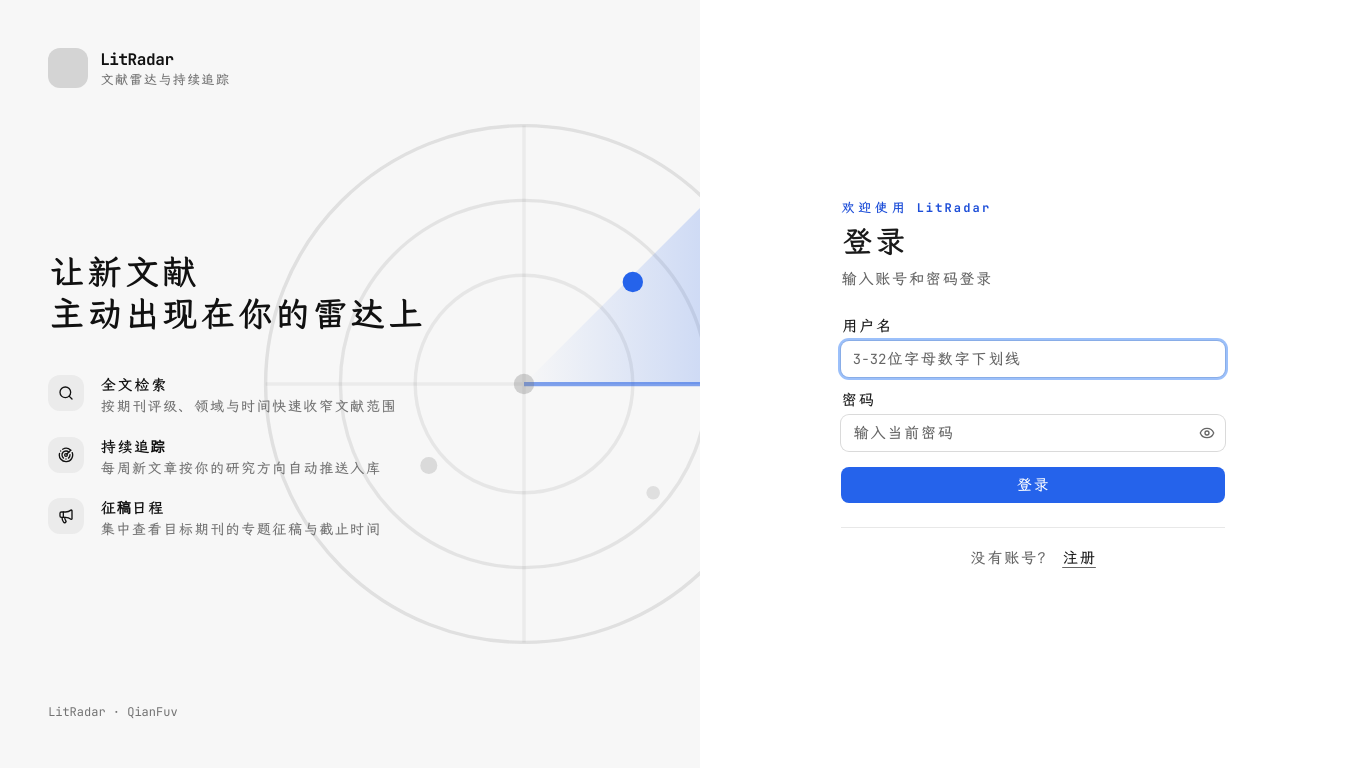
Test: login page › announces mapped login failures
Type "reader" into the field labelled "用户名" at (1033, 359), box [841,341,1225,377]
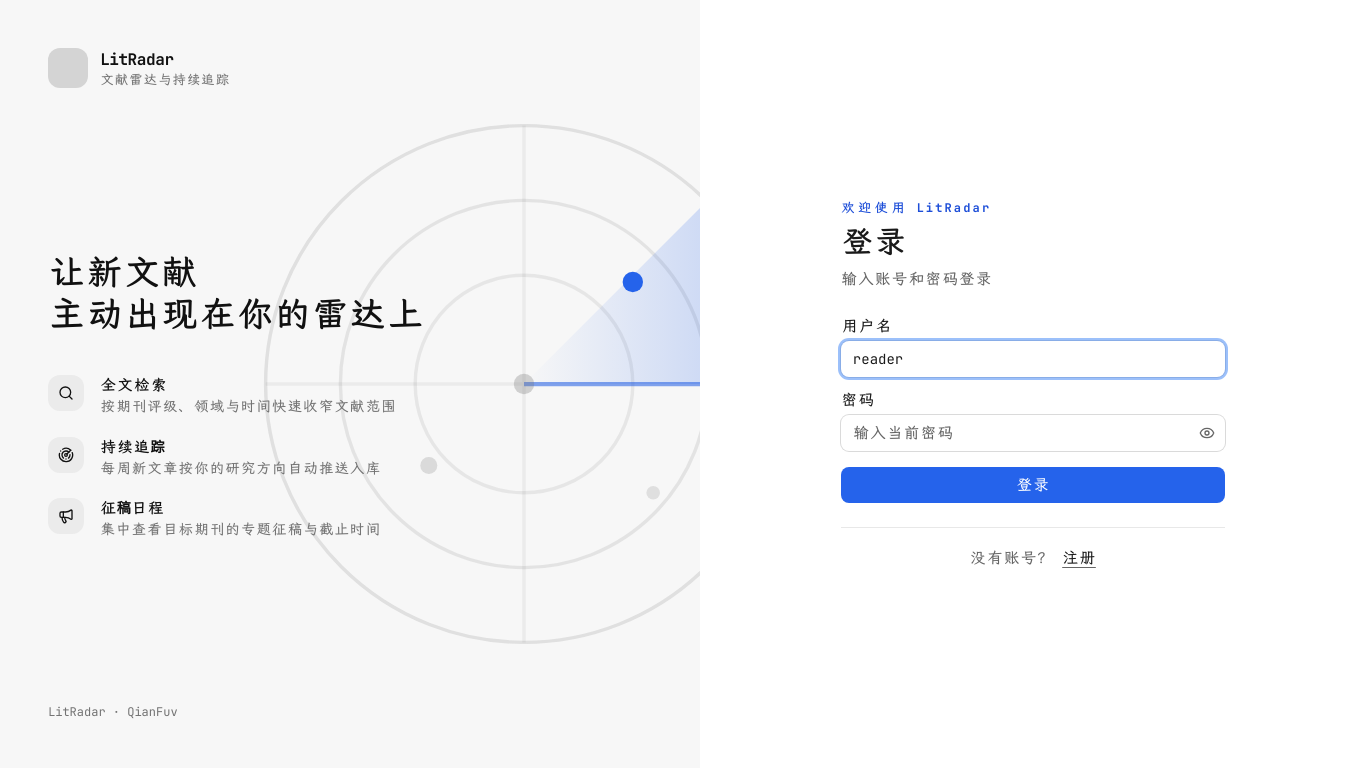
Type "wrong-password" into the password field labelled "密码" at (1033, 433), box [841,415,1225,451]
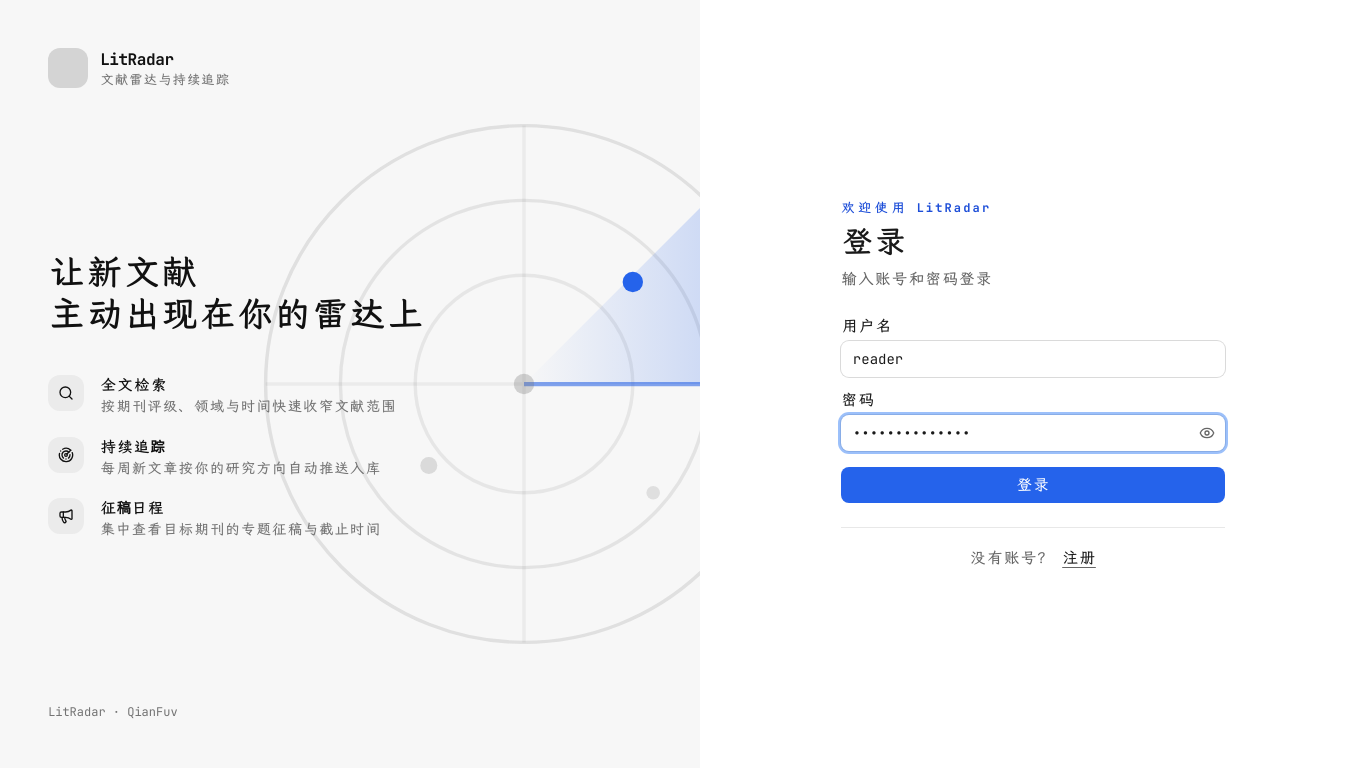
Click the button "登录" at (1033, 485), box [841,467,1225,503]
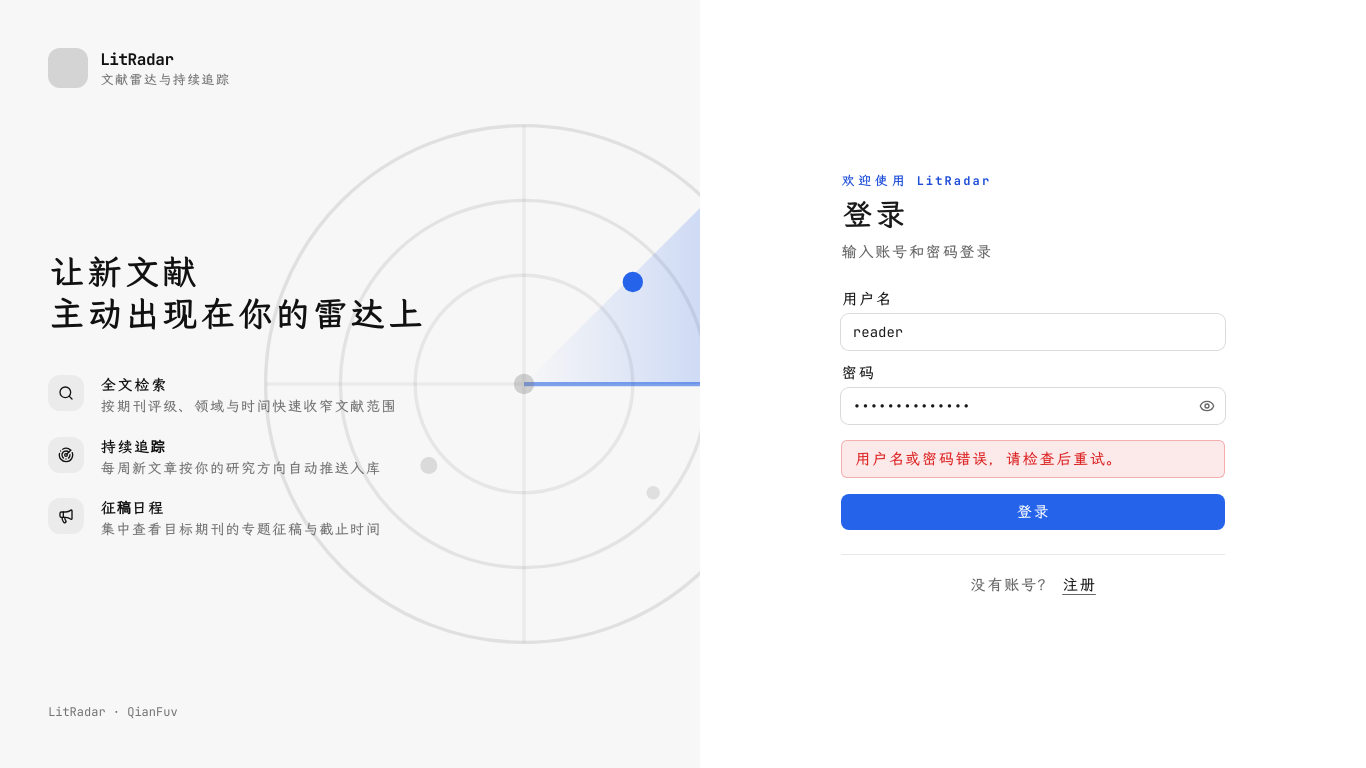
Check: the message reads "用户名或密码错误，请检查后重试。", box [854,450,1123,468]
Click the button "登录" at (1033, 512), box [841,494,1225,530]
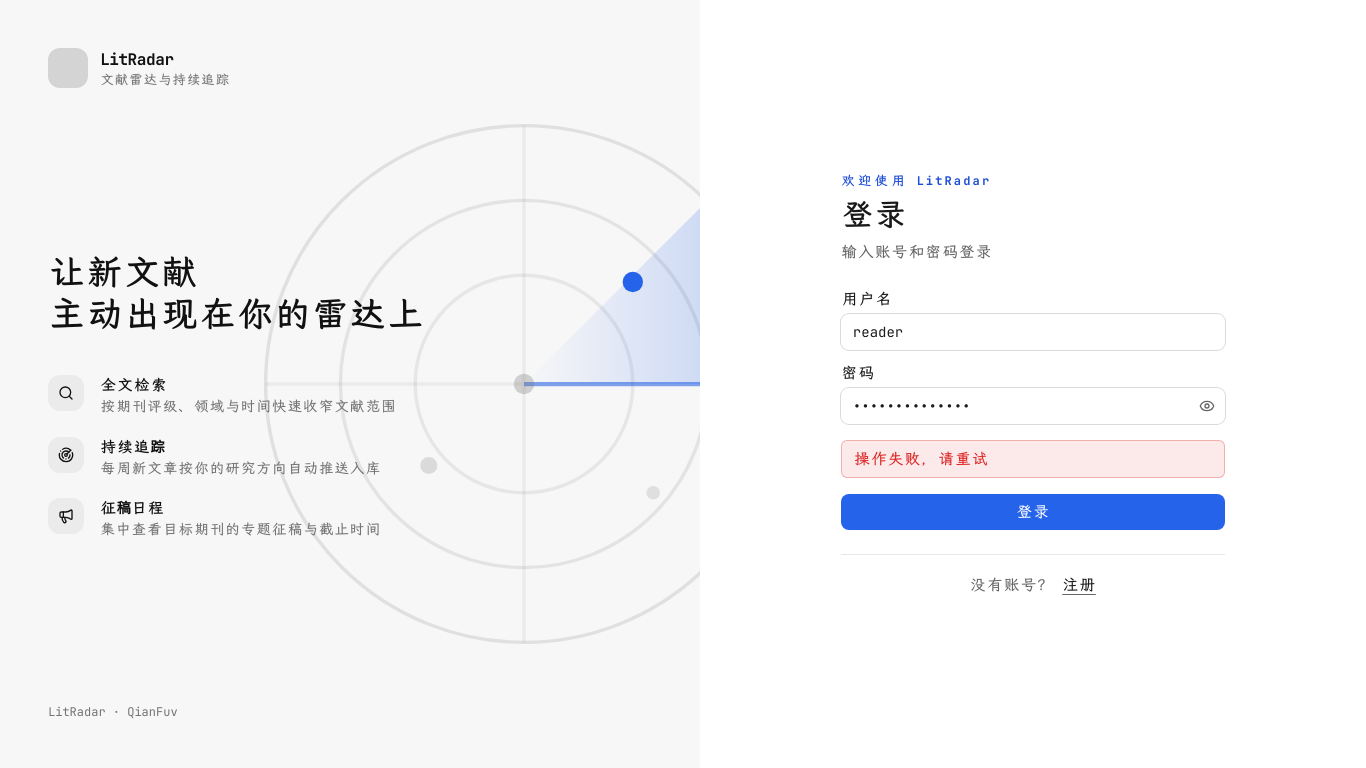
Check: the message reads "操作失败，请重试", box [854,450,988,468]
